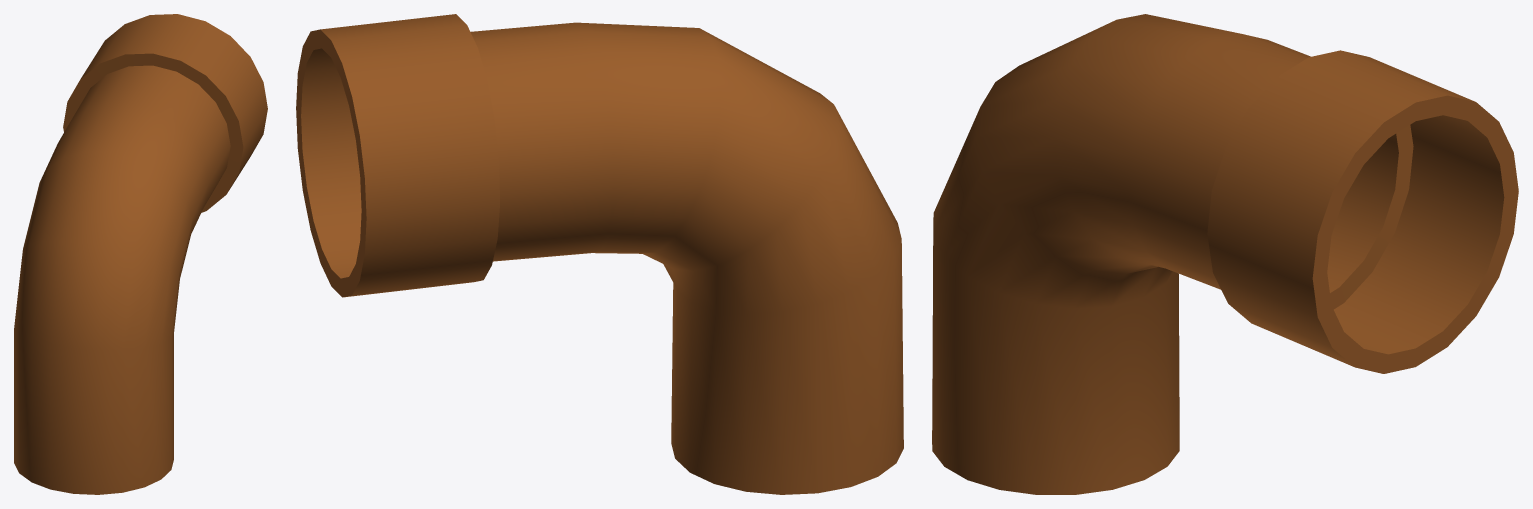
Rendered from 01_Conector.fbx.
3 renders of one model, left to right at view 1: azimuth 30°, elevation 25°; view 2: azimuth 150°, elevation 25°; view 3: azimuth 270°, elevation 25°, orthographic. The views are drawn at different scales.
Parts seen in each view (by area): view 1: Coneccion01; view 2: Coneccion01; view 3: Coneccion01.
Boxes of the visible parts, left/top/right/bottom form: Coneccion01: left=14, top=14, right=267, bottom=494; Coneccion01: left=296, top=14, right=903, bottom=494; Coneccion01: left=932, top=14, right=1518, bottom=494.
Bounding box in the file's own units: 199 × 184 × 199.
